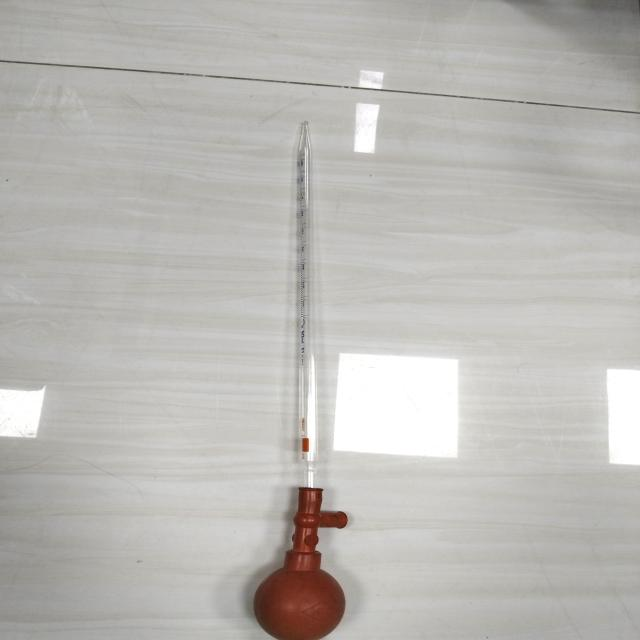Volumetric_Pipet: (236, 110, 383, 640)
